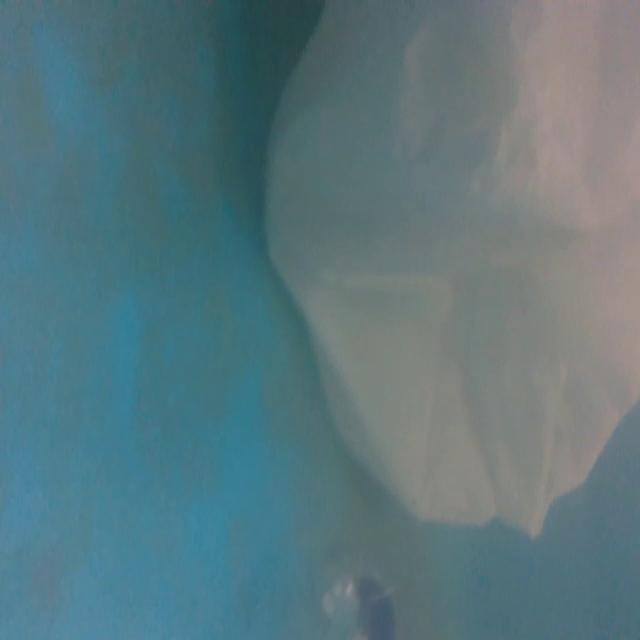plastic bags: (269, 0, 640, 531)
plastic bottle: (296, 574, 409, 640)
